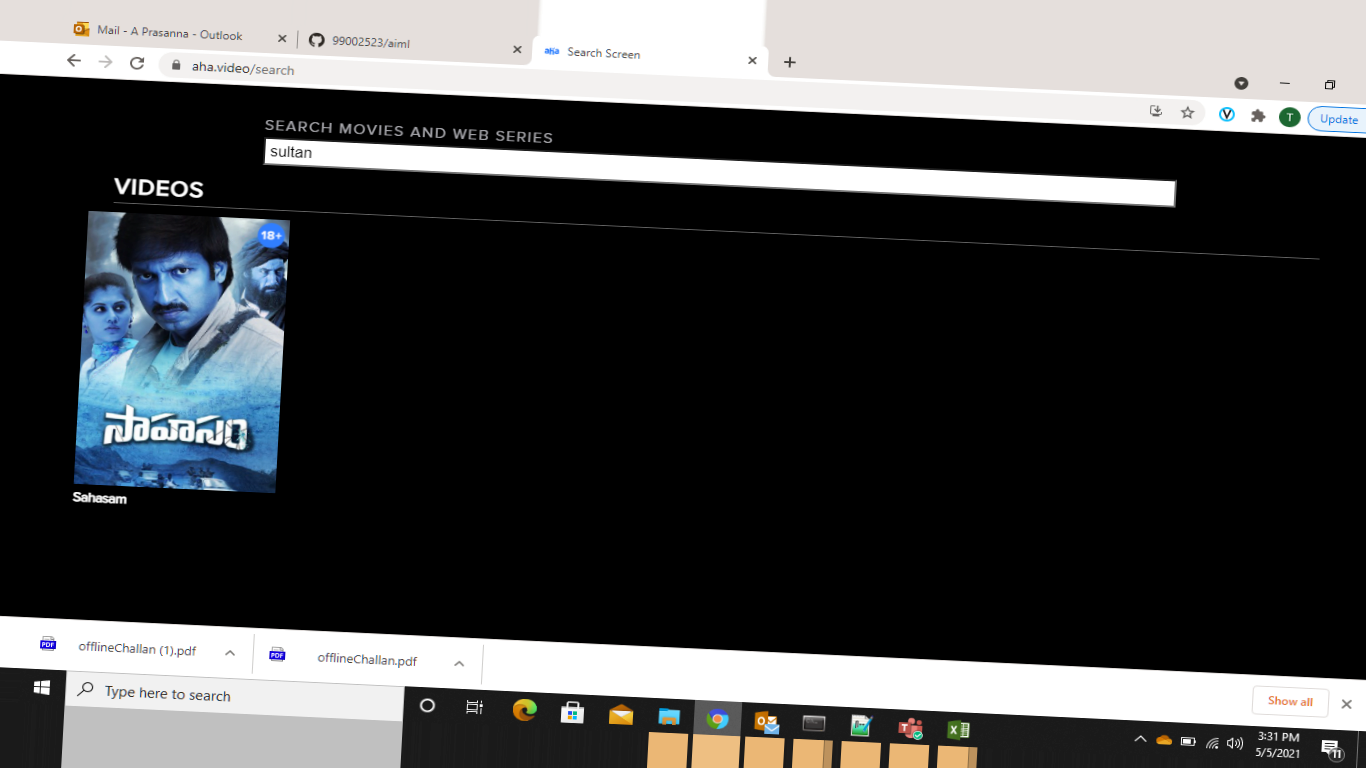resultsfound: (104, 163, 368, 222)
searchtextbox: (246, 107, 1182, 216)
